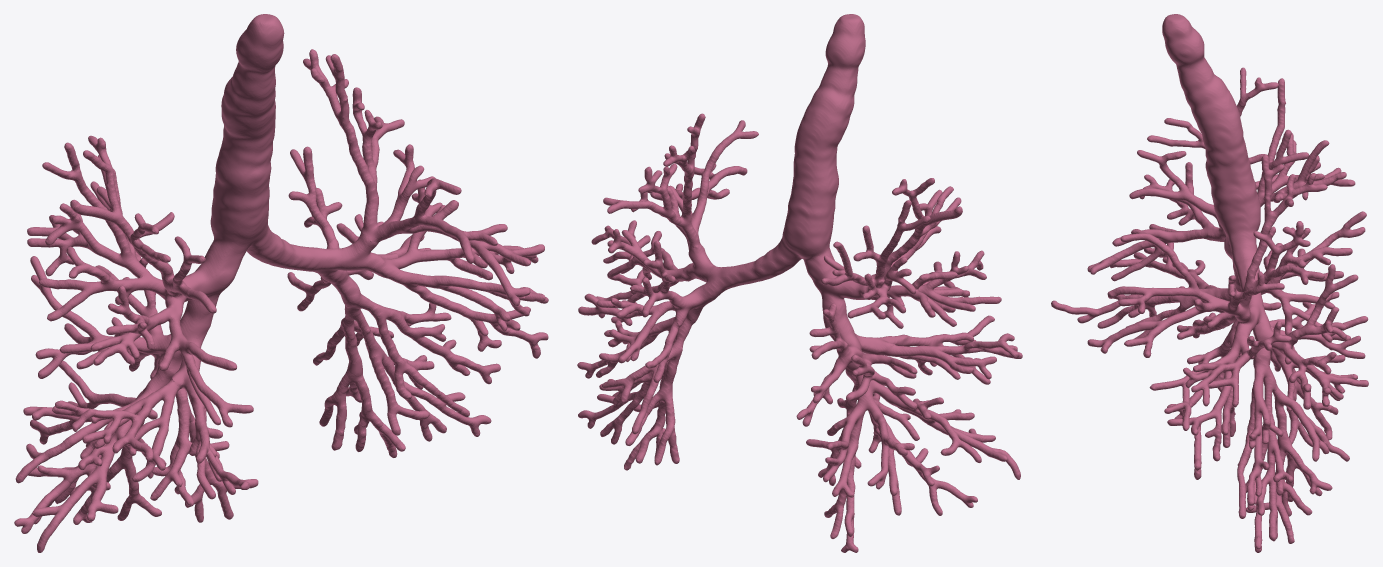
Rendered from airway_full.glb.
The picture shows the model from 3 angles, left to right: view 1: azimuth 30°, elevation 25°; view 2: azimuth 150°, elevation 25°; view 3: azimuth 270°, elevation 25°; orthographic projection. The views are drawn at different scales.
Visible parts, largest first — view 1: Tracheobronchial_tree_full.001; view 2: Tracheobronchial_tree_full.001; view 3: Tracheobronchial_tree_full.001.
Boxes of the visible parts, <box> form: Tracheobronchial_tree_full.001: <box>14,14,548,552</box>; Tracheobronchial_tree_full.001: <box>577,14,1022,552</box>; Tracheobronchial_tree_full.001: <box>1051,14,1368,552</box>.
Size of the model in its own units: 0.2293 by 0.2366 by 0.149.
